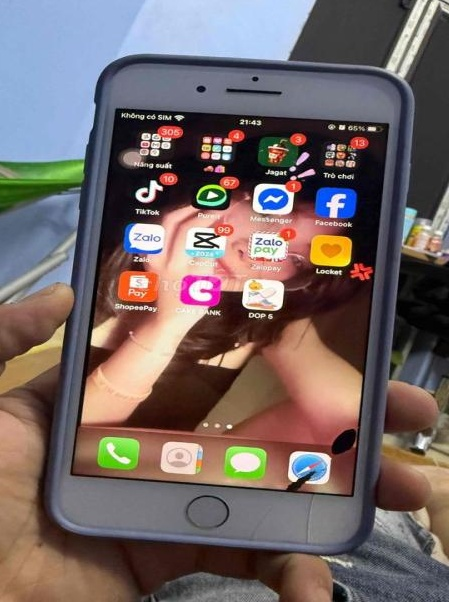physical_damage: (259, 484, 337, 518), (290, 513, 336, 557), (236, 508, 276, 548), (311, 451, 348, 472), (349, 407, 376, 430)
screen_defect: (265, 464, 322, 497), (325, 426, 361, 455)
